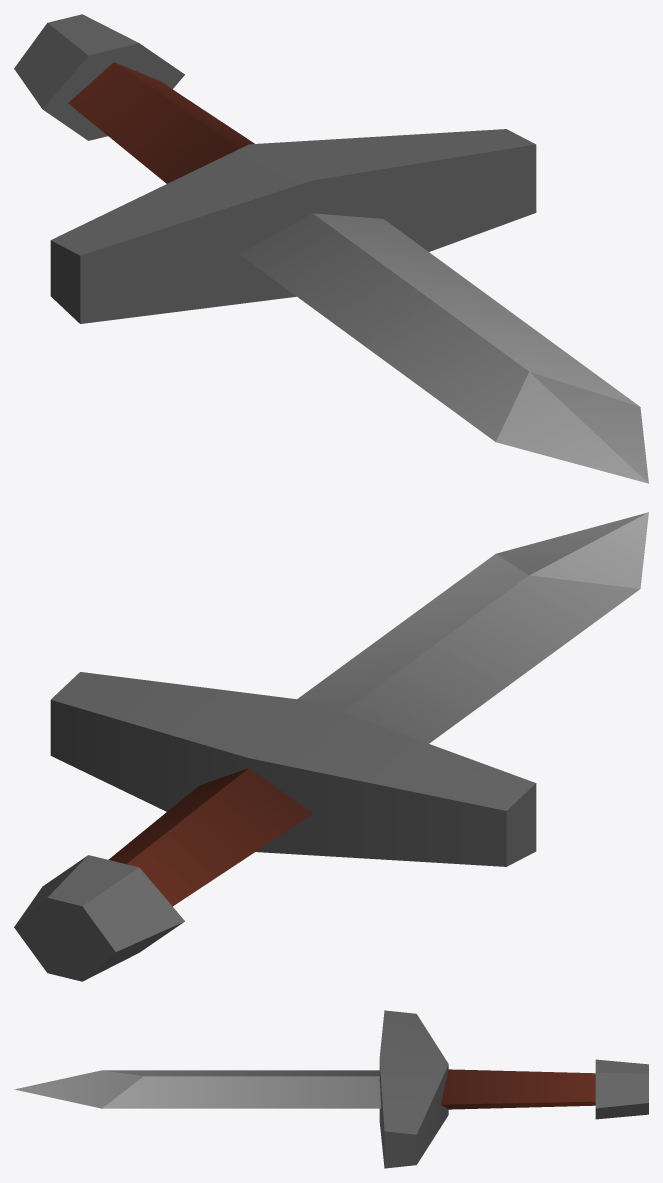
The model's file is DaggerBasic.glb.
The picture shows the model from 3 angles, top to bottom: view 1: azimuth 30°, elevation 25°; view 2: azimuth 150°, elevation 25°; view 3: azimuth 270°, elevation 25°; orthographic projection. The views are drawn at different scales.
Parts seen in each view (by area): view 1: Dagger; view 2: Dagger; view 3: Dagger.
Boxes of the visible parts, <box> form: Dagger: <box>14,14,648,483</box>; Dagger: <box>14,512,648,981</box>; Dagger: <box>14,1010,648,1168</box>.
Bounding box in the file's own units: 0.2237 × 0.0536 × 0.4963.
Materials: 1 (1 with a texture image).
